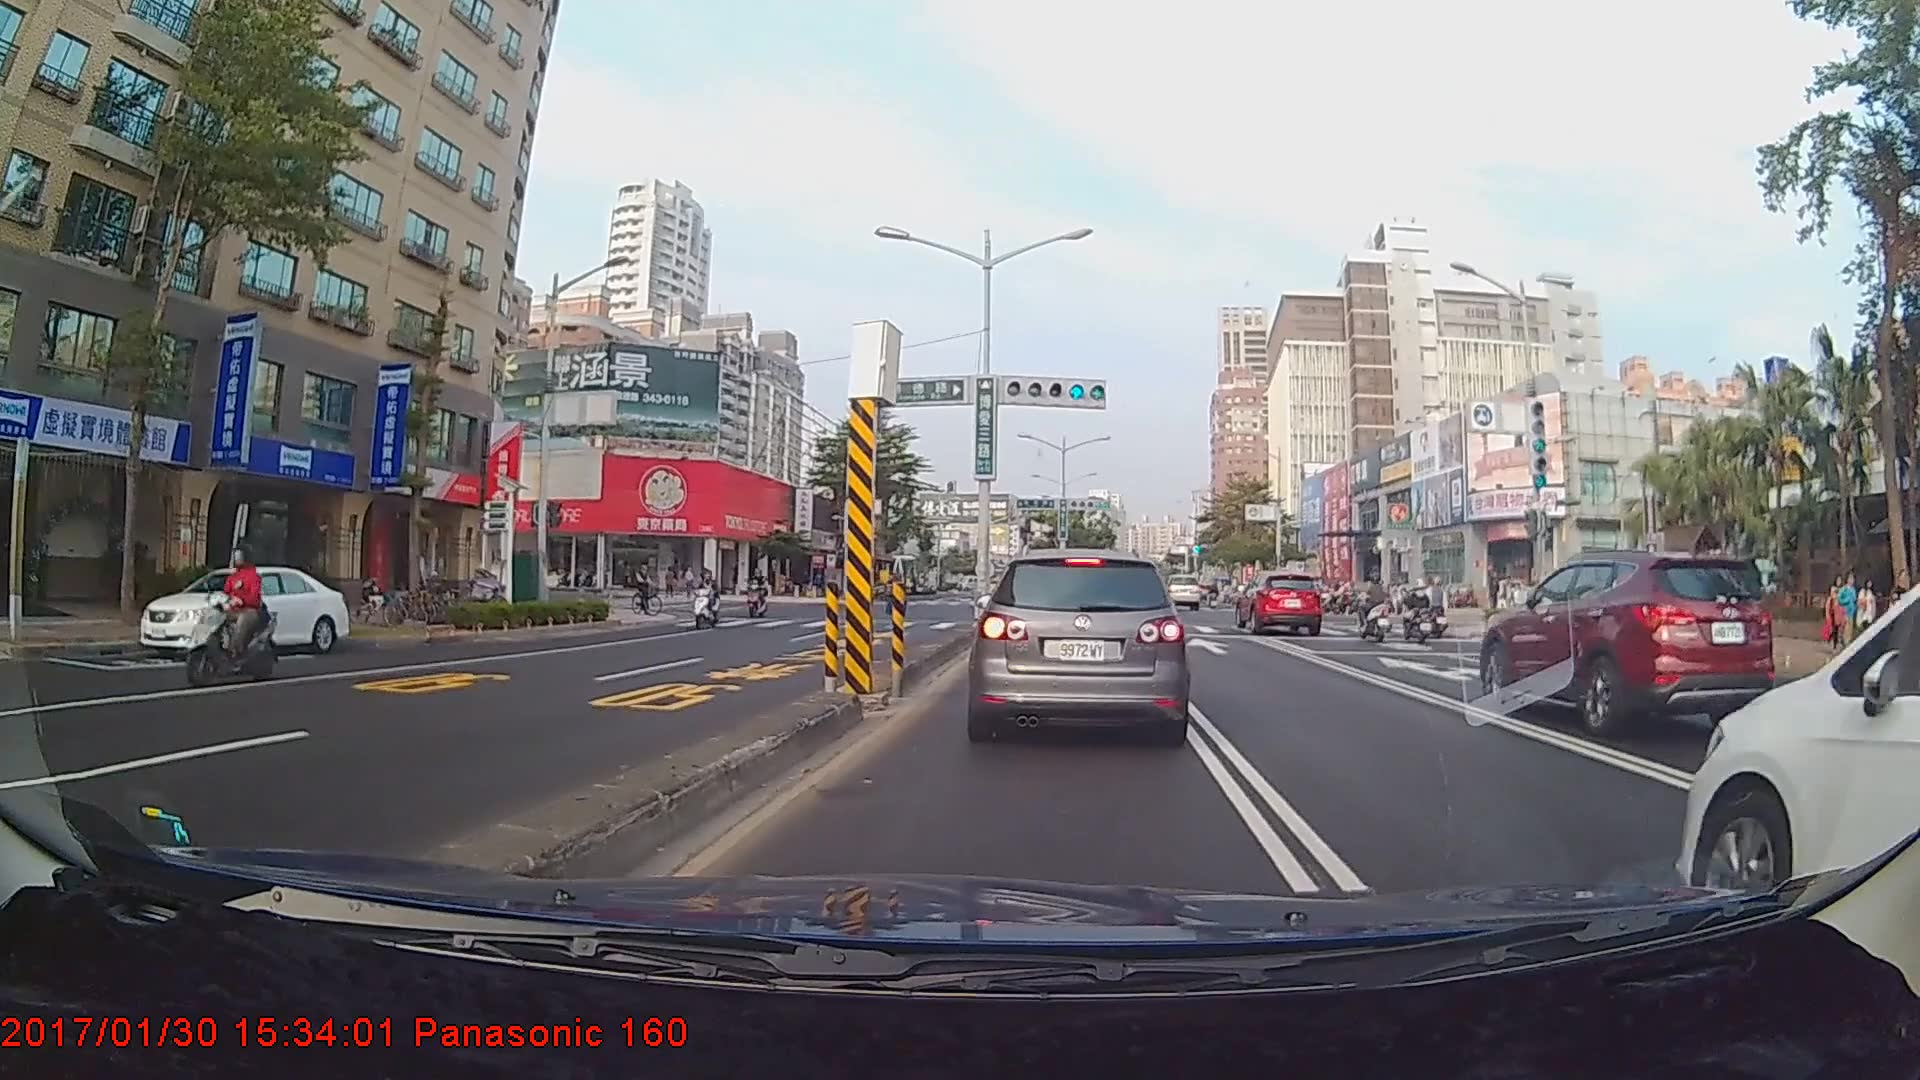pedestrian: (1832, 573, 1858, 661), (1826, 576, 1851, 657), (1856, 576, 1880, 647)
rider: (185, 543, 283, 691), (1346, 576, 1400, 647), (1394, 580, 1443, 645), (691, 569, 729, 635), (629, 560, 669, 623), (749, 568, 777, 622)
vehicle: (1479, 550, 1783, 735), (972, 547, 1188, 742), (138, 562, 346, 658), (1237, 570, 1325, 635), (1163, 572, 1200, 610)
